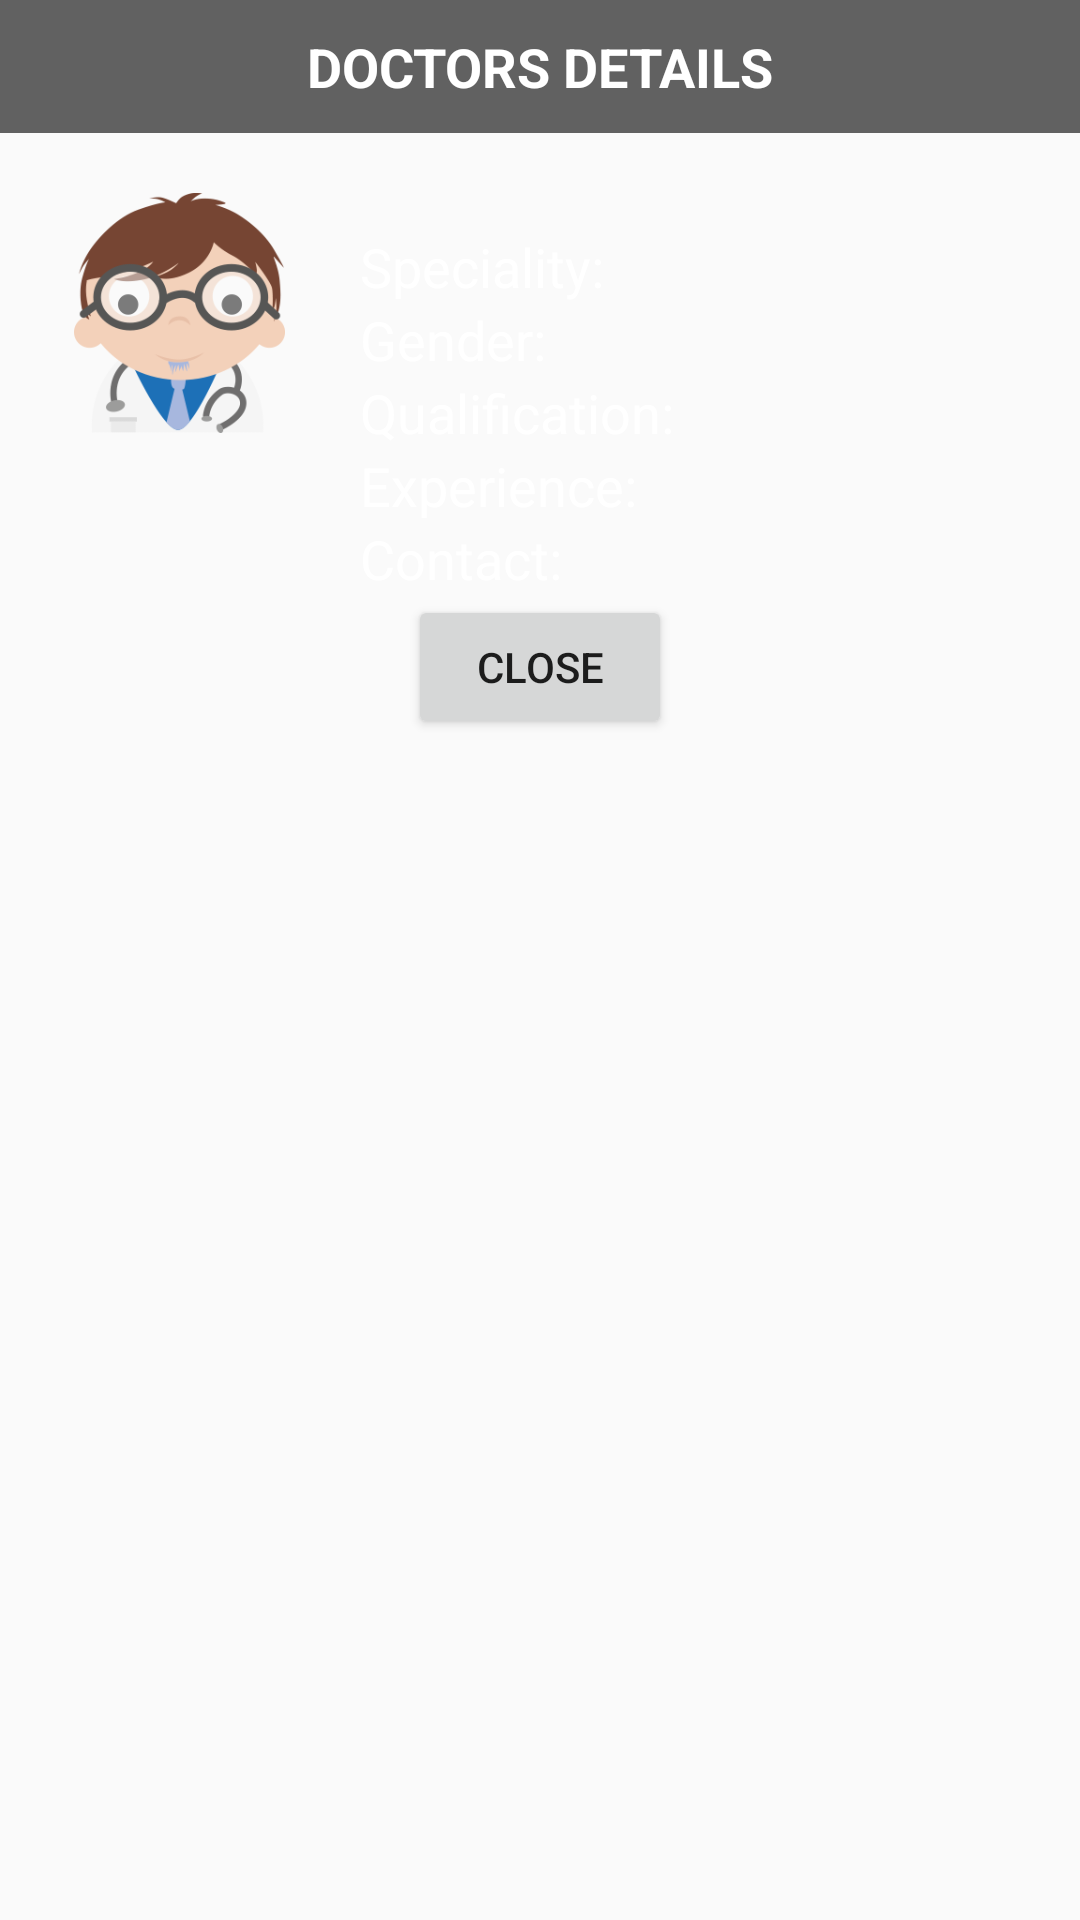

Named icons in this screenshot (1080px×1920px) and their centers, point (x, y):
male dr: point (179, 313)
